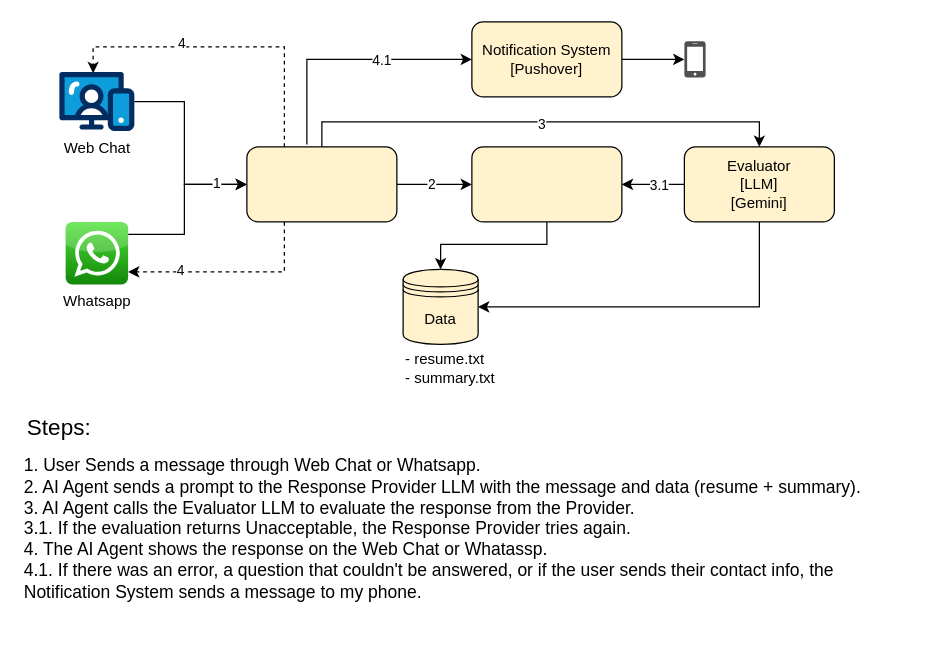
This 943x656 diagram has some shape labels left out. Here are the shapes that lost their labels. From the top down, the box of each, then its label:
(246, 146, 397, 222): LeoGPT [AI Agent]
(471, 146, 622, 222): Response Provider [LLM] [Open AI]
